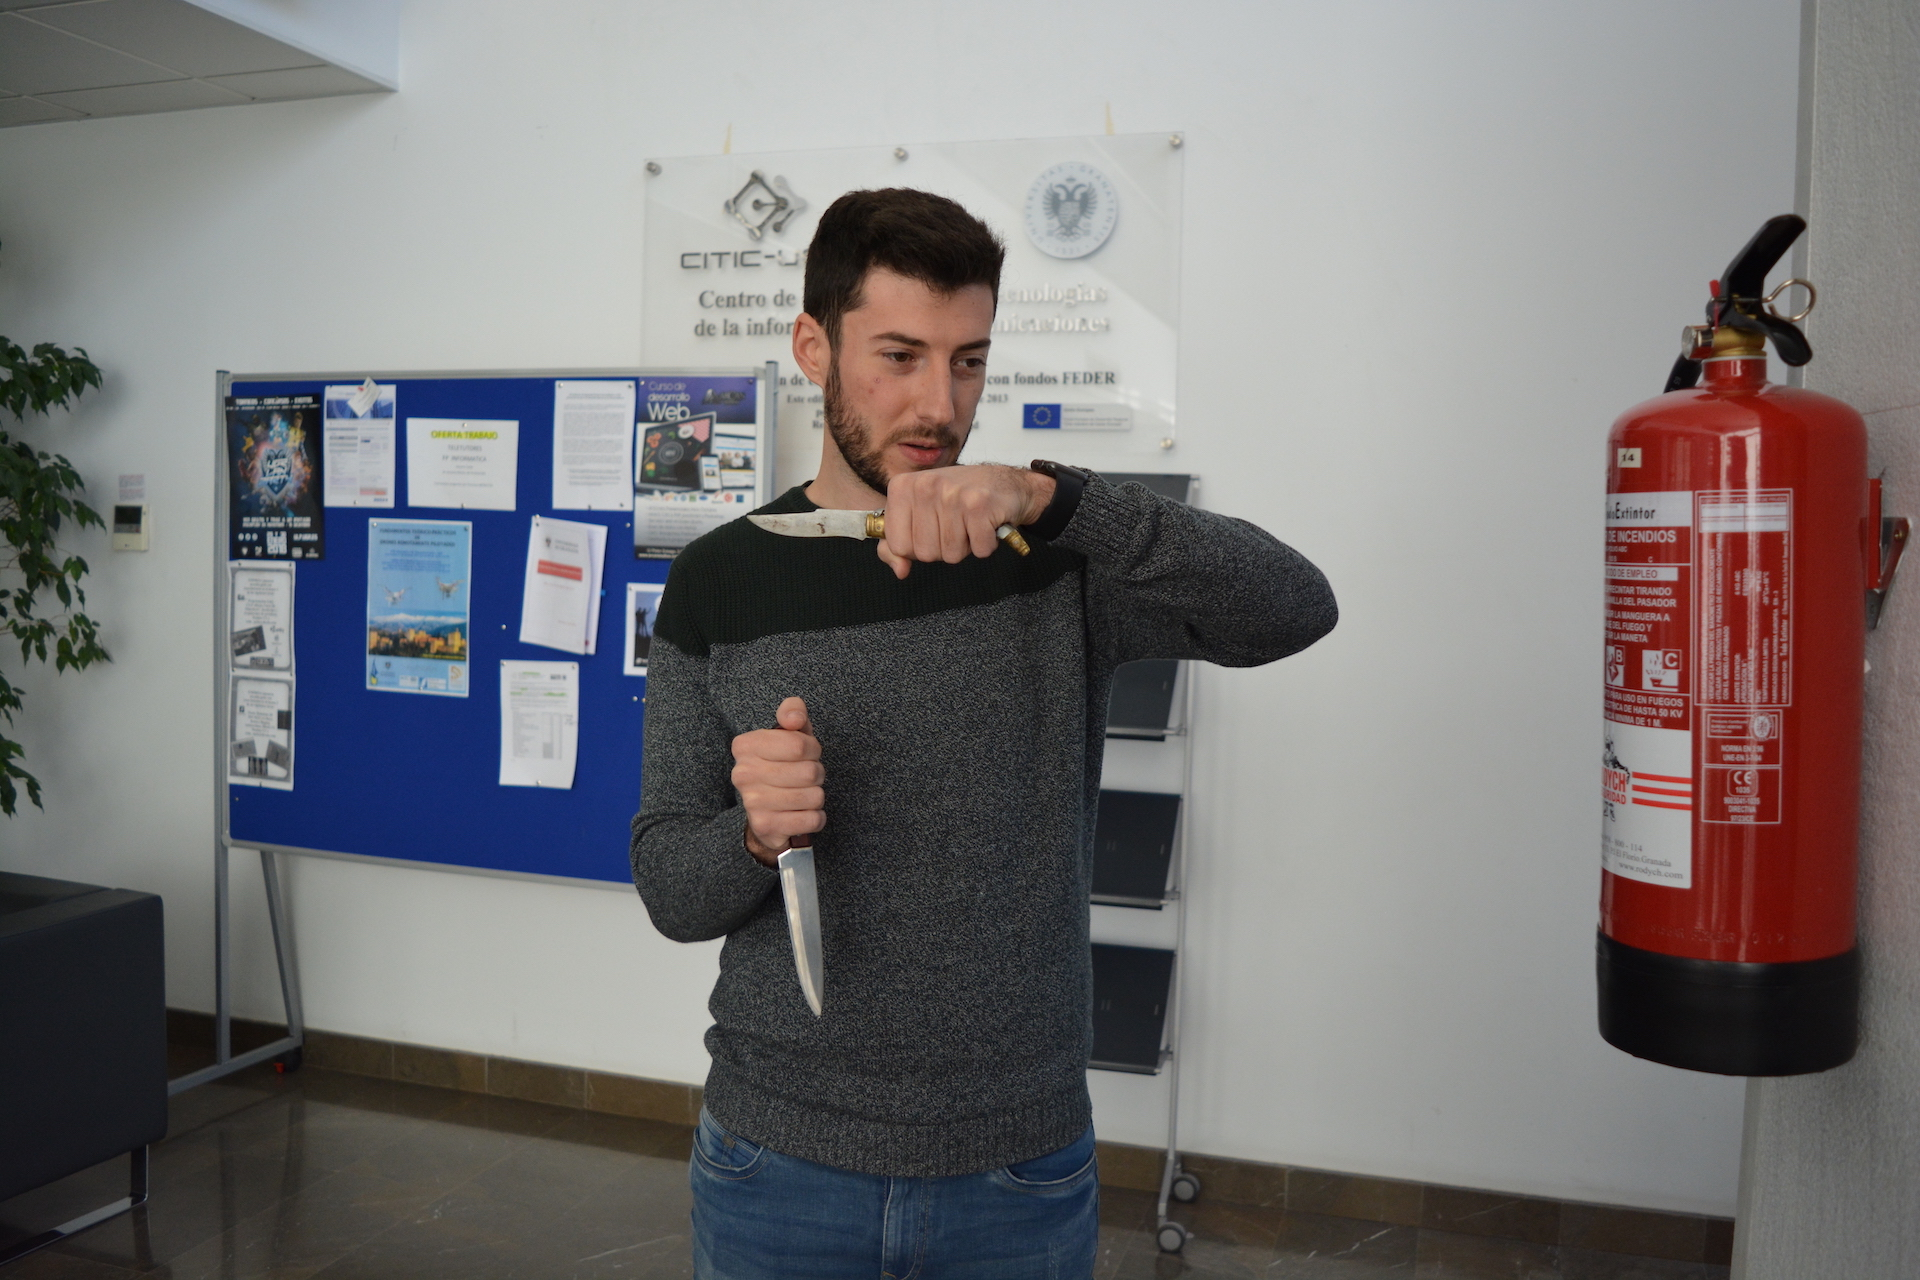knife: (729, 499, 1041, 566), (769, 824, 841, 1029)
